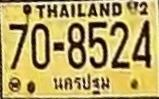0: (31, 23, 49, 68)
2: (110, 20, 128, 68)
4: (131, 19, 150, 67)
5: (88, 21, 107, 68)
7: (8, 23, 28, 69)
8: (67, 22, 85, 68)
NPT: (49, 71, 114, 96)
